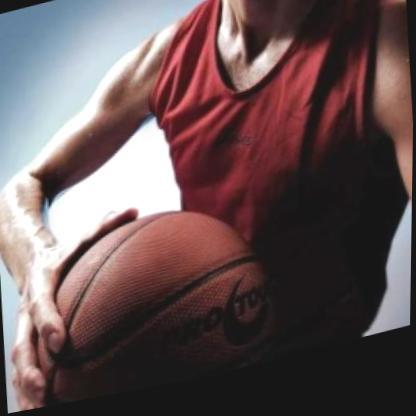basketball: (3, 188, 275, 415)
